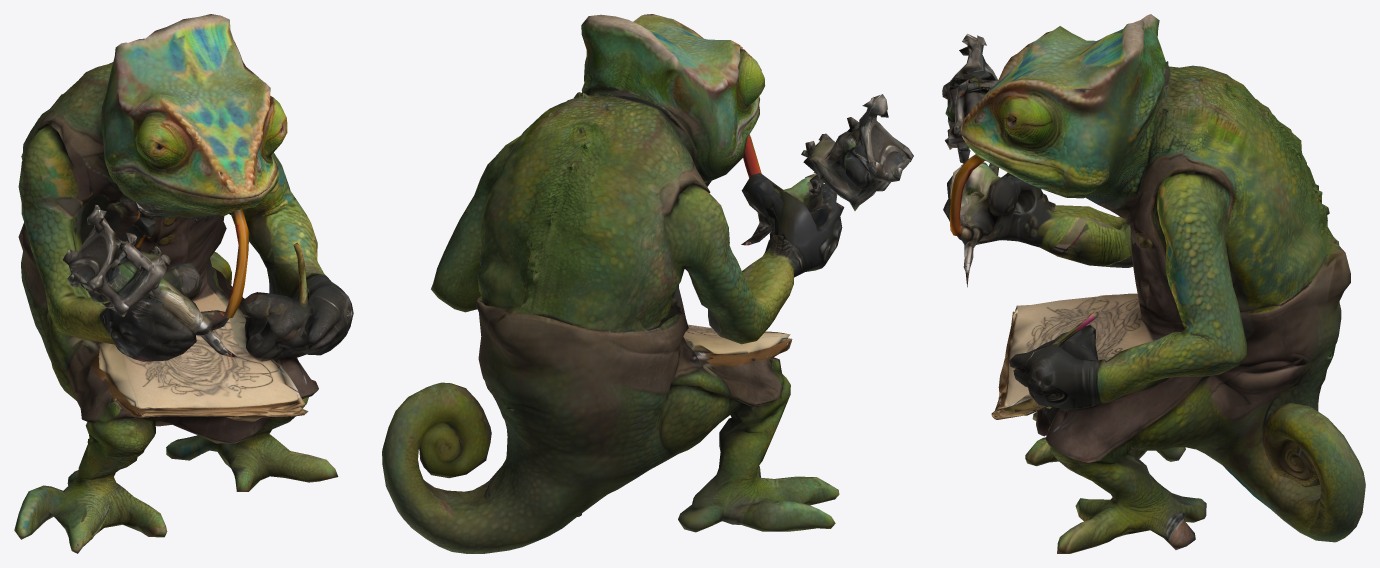
Rendered from CamaleonTattoo.glb.
The picture shows the model from 3 angles, left to right: view 1: azimuth 30°, elevation 25°; view 2: azimuth 150°, elevation 25°; view 3: azimuth 270°, elevation 25°; orthographic projection. The views are drawn at different scales.
Size of the model in its own units: 1.52 by 2 by 1.6.
1 material, 1 textured.
